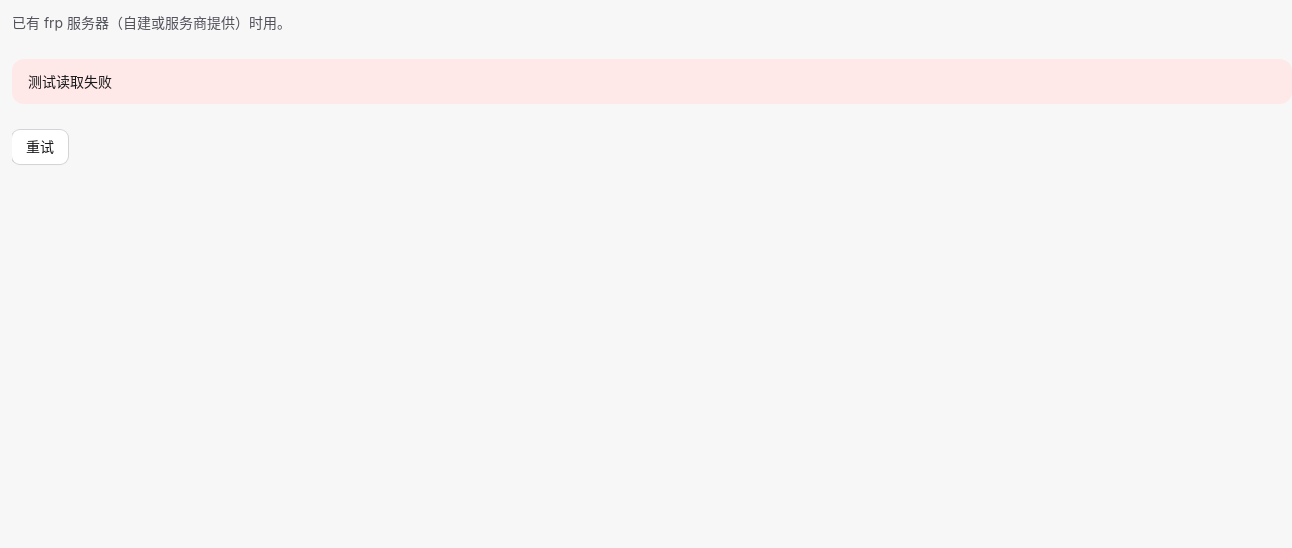
Test: frp: when the very first read fails the "Add Server" form is not shown, only the error with a retry; after a successful retry it shows as usual
Check: the text "测试读取失败" is shown, box top-left (12, 59), bottom-right (1291, 104)
Check: the field labelled "服务器地址" is not shown
Click the button "重试" at (40, 147), box top-left (12, 130), bottom-right (68, 164)
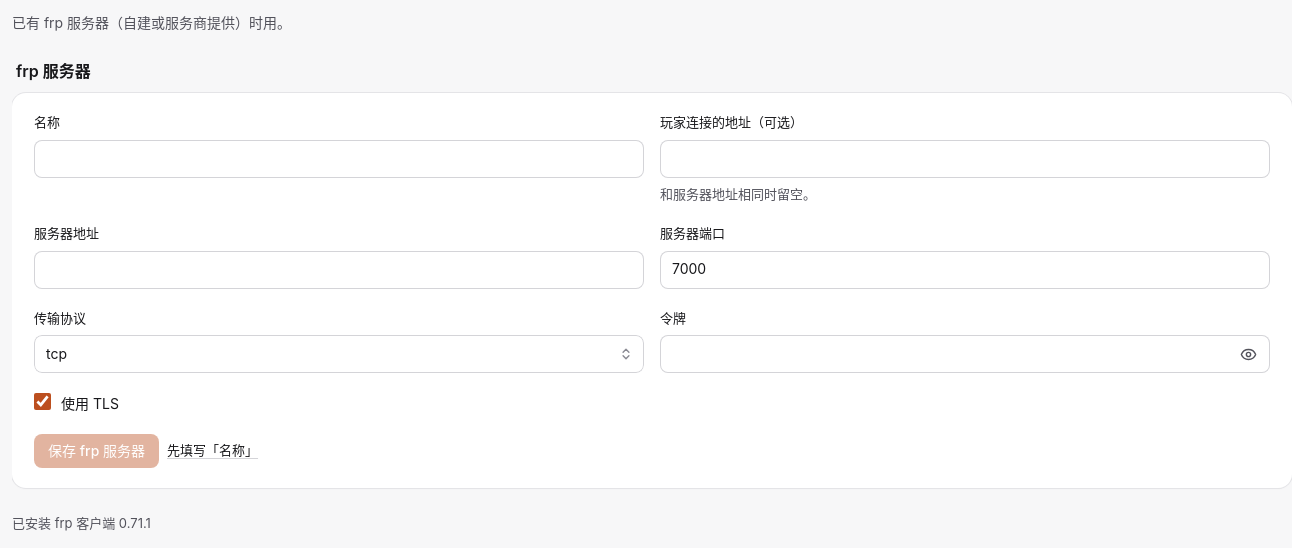
Check: the field labelled "服务器地址" is shown, box top-left (34, 250), bottom-right (644, 288)
Check: the button "重试" is gone
